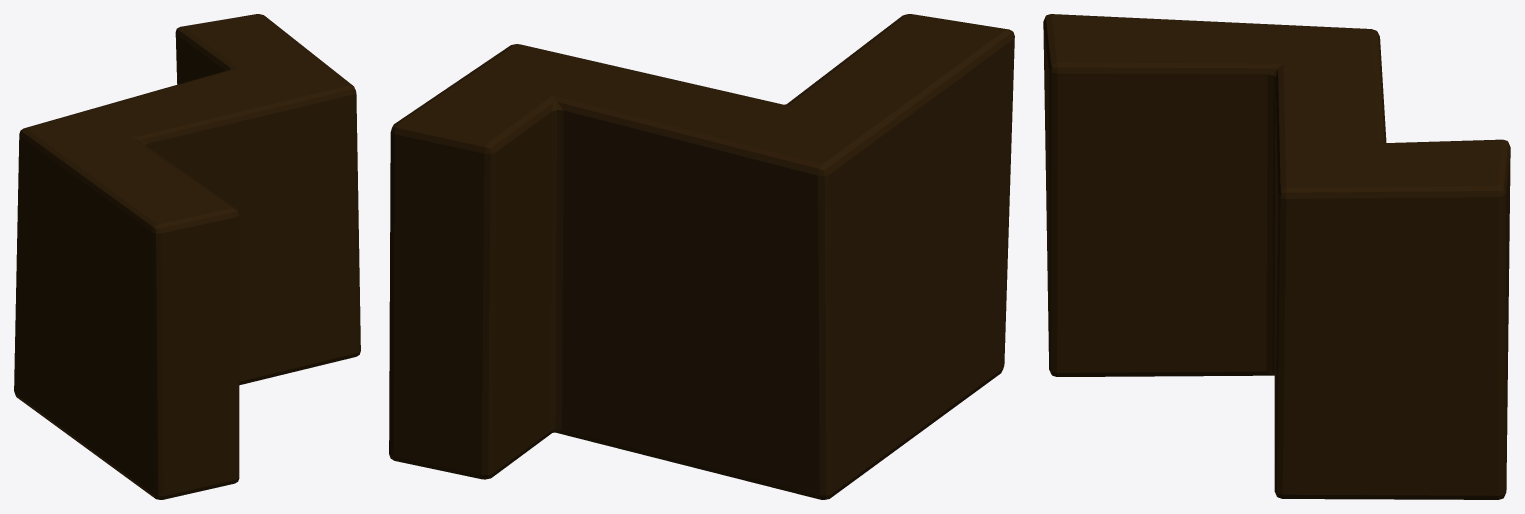
Rendered from Wall piece 12 collider.fbx.
The picture shows the model from 3 angles, left to right: view 1: azimuth 30°, elevation 25°; view 2: azimuth 150°, elevation 25°; view 3: azimuth 270°, elevation 25°; orthographic projection. The views are drawn at different scales.
Parts seen in each view (by area): view 1: wall piece 12 collider; view 2: wall piece 12 collider; view 3: wall piece 12 collider.
Boxes of the visible parts, x1=… form: wall piece 12 collider: x1=14, y1=14, x2=360, y2=499; wall piece 12 collider: x1=389, y1=14, x2=1014, y2=499; wall piece 12 collider: x1=1043, y1=14, x2=1510, y2=499.
Bounding box in the file's own units: 505 × 577 × 435.
